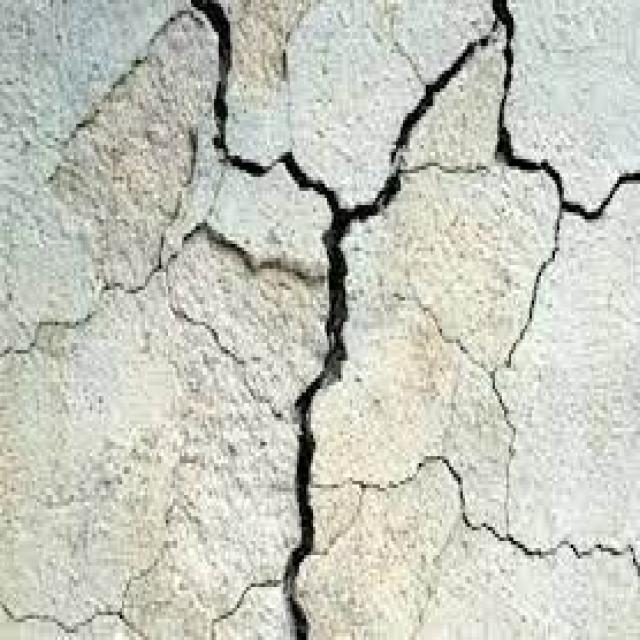Crack: (191, 0, 350, 636), (332, 0, 564, 219), (0, 212, 325, 357), (308, 449, 638, 566), (391, 286, 502, 527), (46, 4, 196, 173), (0, 548, 157, 637), (488, 202, 562, 371), (559, 163, 638, 219)
